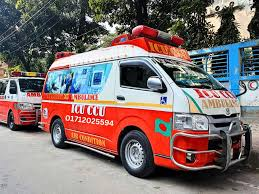Ambulance: (40, 25, 254, 176)
